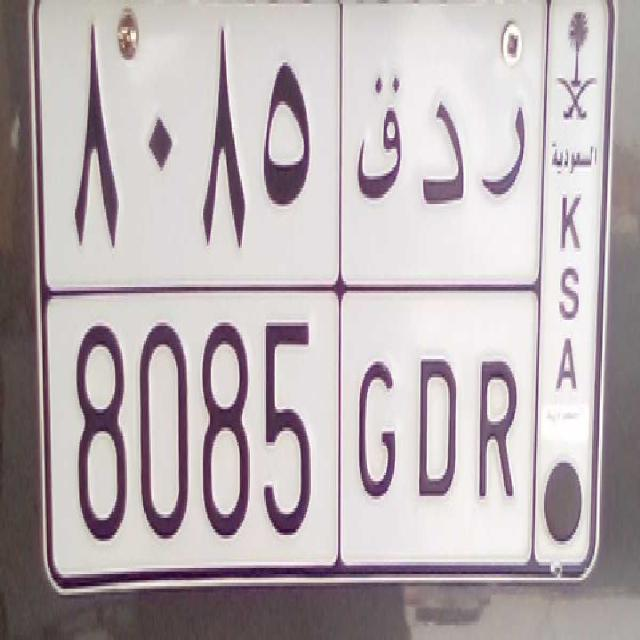license_plate: (61, 285, 527, 574)
